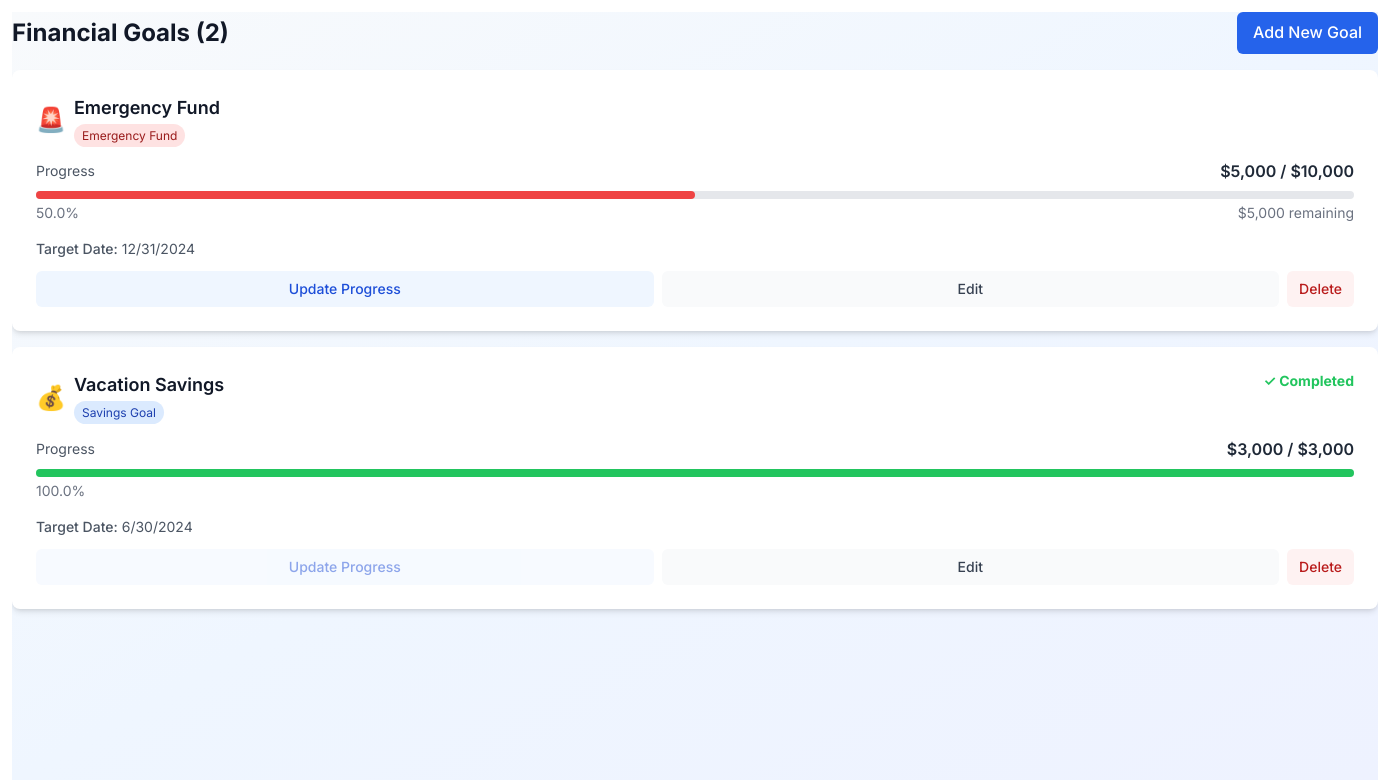
it: Refactored GoalsSection Component › Goal Deletion › should handle delete errors
Click the button "Delete" below "remaining".
click(1321, 289)  # box [1287, 271, 1354, 307]
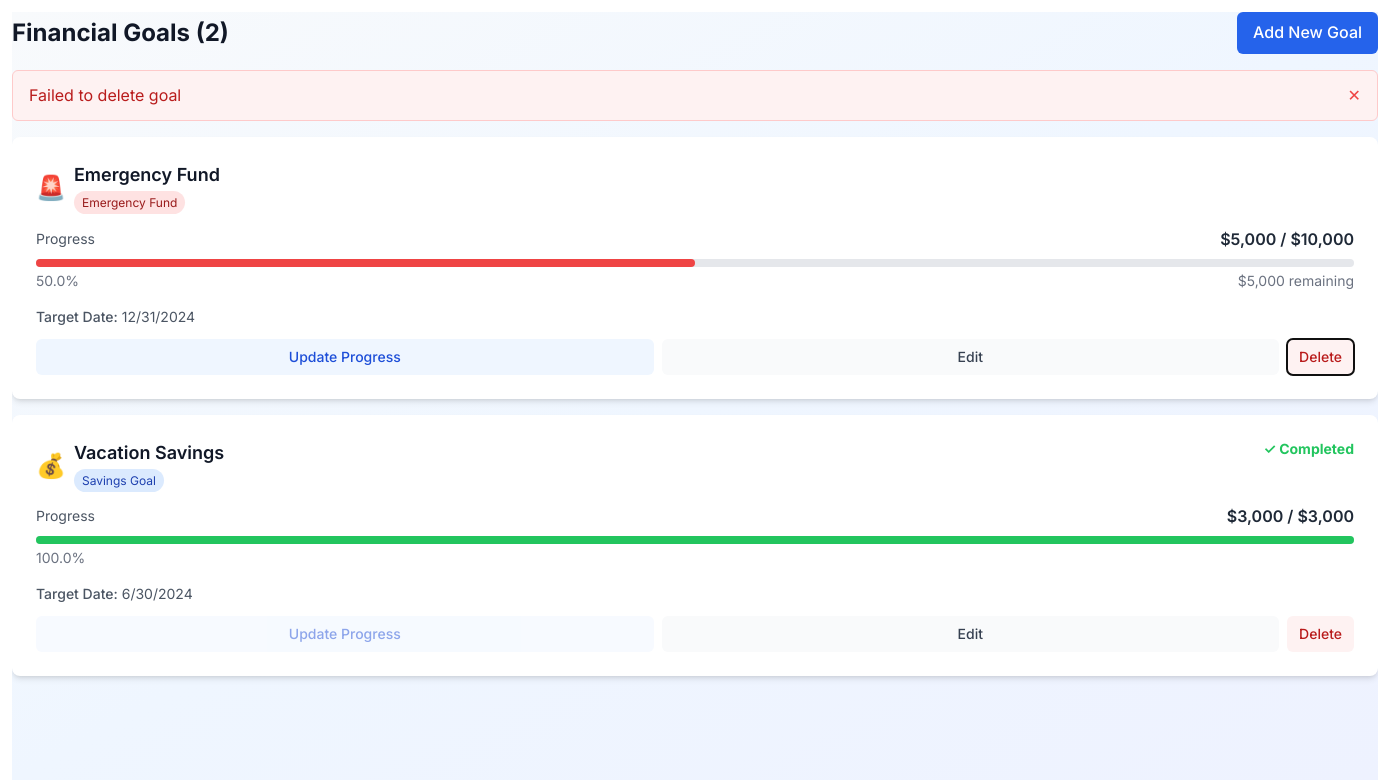
Result: the element with test id "error-message" is shown at [12, 70, 1378, 121]
Result: the text "Failed to delete goal" is shown at [29, 83, 181, 108]
